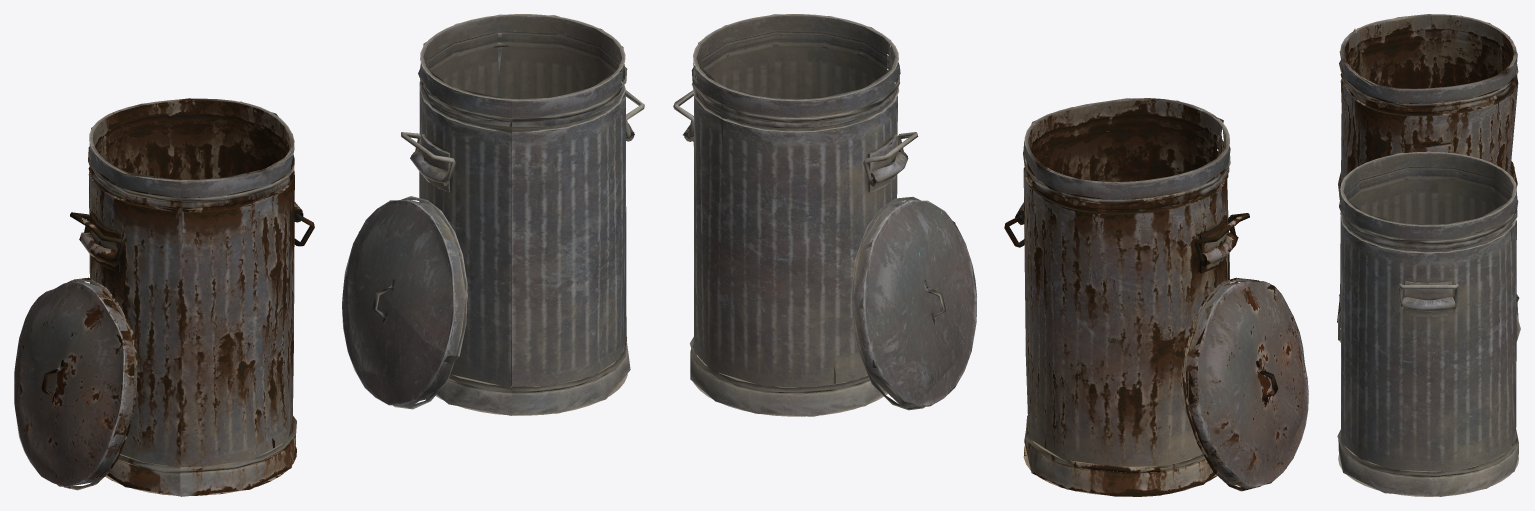
The model's file is metal_trash_can.glb.
3 views of the same model, side by side, from view 1: azimuth 30°, elevation 25°; view 2: azimuth 150°, elevation 25°; view 3: azimuth 270°, elevation 25° (orthographic). The views are drawn at different scales.
Visible parts, largest first — view 1: metal_trash_can, metal_trash_can_rust, metal_trash_can_lid, metal_trash_can_rust_lid; view 2: metal_trash_can, metal_trash_can_rust, metal_trash_can_lid, metal_trash_can_rust_lid; view 3: metal_trash_can, metal_trash_can_rust, metal_trash_can_handle_right.
Part boxes in pixels (box(x1,y1,x2,y2)): metal_trash_can: box(410, 14, 634, 415); metal_trash_can_rust: box(79, 98, 303, 496); metal_trash_can_lid: box(342, 196, 467, 409); metal_trash_can_rust_lid: box(14, 277, 137, 490); metal_trash_can: box(683, 14, 908, 416); metal_trash_can_rust: box(1015, 98, 1238, 496); metal_trash_can_lid: box(850, 197, 976, 410); metal_trash_can_rust_lid: box(1182, 277, 1308, 491); metal_trash_can: box(1337, 151, 1518, 496); metal_trash_can_rust: box(1337, 14, 1519, 322); metal_trash_can_handle_right: box(1398, 283, 1458, 303).
Bounding box in the file's own units: 1.78 × 0.9063 × 0.56.
3 materials, 3 textured.
